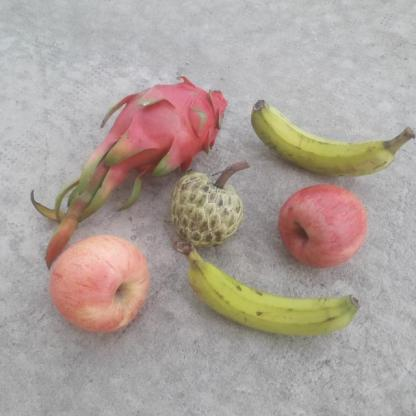annona: (170, 169, 244, 250)
apple: (49, 232, 152, 334), (274, 182, 371, 271)
banana: (185, 256, 362, 340), (249, 94, 396, 176)
pitaya: (110, 79, 234, 176)
